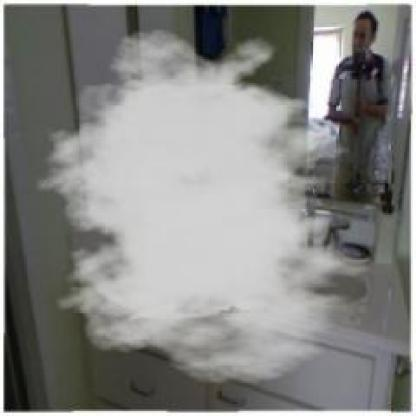Smoke: (30, 28, 386, 385)
